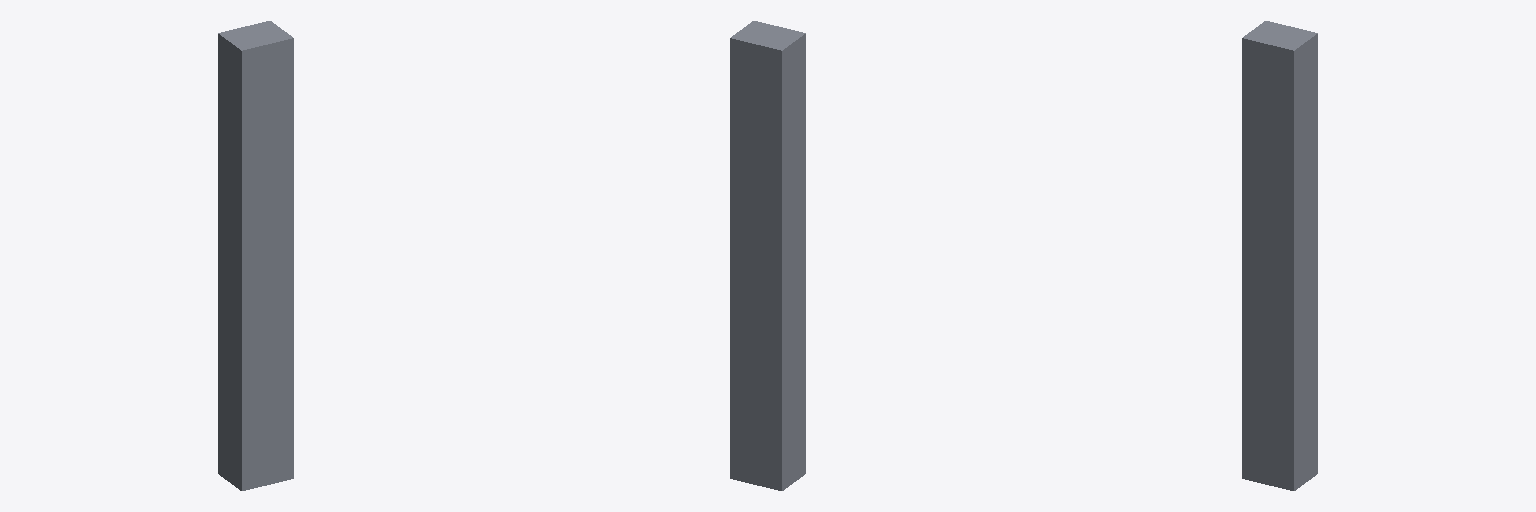
The robot description file, URDF, robot "artmanip_knife_000":
<?xml version='1.0' encoding='utf-8'?>
<robot name="artmanip_knife_000"><link name="link_0"><inertial><mass value="0.035177604166666675" /><inertia ixx="5.555496424696183e-05" iyy="5.586789835069448e-05" izz="1.3814538302951391e-06" ixy="0" ixz="0" iyz="0" /></inertial><visual><geometry><box size="0.017 0.0135 0.137" /></geometry><material name="link_0_color"><color rgba=".58 .60 .64 1" /></material></visual><collision><geometry><box size="0.017 0.0135 0.137" /></geometry></collision></link><link name="link_1"><inertial><mass value="0.006" /><inertia ixx="4.545e-07" iyy="5e-07" izz="5.45e-08" ixy="0" ixz="0" iyz="0" /></inertial><visual><geometry><mesh filename="slider-shoulder.obj" /></geometry><material name="link_1_color"><color rgba=".12 .13 .15 1" /></material></visual><collision><geometry><mesh filename="slider-shoulder.obj" /></geometry></collision></link><joint name="slider" type="prismatic"><parent link="link_0" /><child link="link_1" /><origin xyz="-0.001 0.009049999999999999 0.015624586881962735" /><axis xyz="0 0 1" /><limit lower="-0.03267458688196273" upper="0.017325413118037272" effort="100" velocity="1" /><dynamics damping="1000" friction="0.001" /></joint></robot>

--- Facts derived from the render (not from the file) ---
The picture shows the robot from 3 angles, left to right: view 1: azimuth 30°, elevation 25°; view 2: azimuth 150°, elevation 25°; view 3: azimuth 330°, elevation 25°; orthographic projection.
Model artmanip_knife_000 with 2 links and 1 joints (1 prismatic), rooted at link_0, posed every joint at zero.
Visible links, largest first — view 1: link_0; view 2: link_0; view 3: link_0.
Link boxes in pixels (box(x1,y1,x2,y2)): link_0: box(218, 21, 293, 490); link_0: box(730, 21, 805, 490); link_0: box(1242, 21, 1317, 490).
Size in the robot's own frame: 0.017 by 0.0135 by 0.137 metres.
Meshes: 1 distinct files referenced, 0 mesh visuals loaded (none loaded); not drawn: 1 (reference not matched to a file when rendering).
